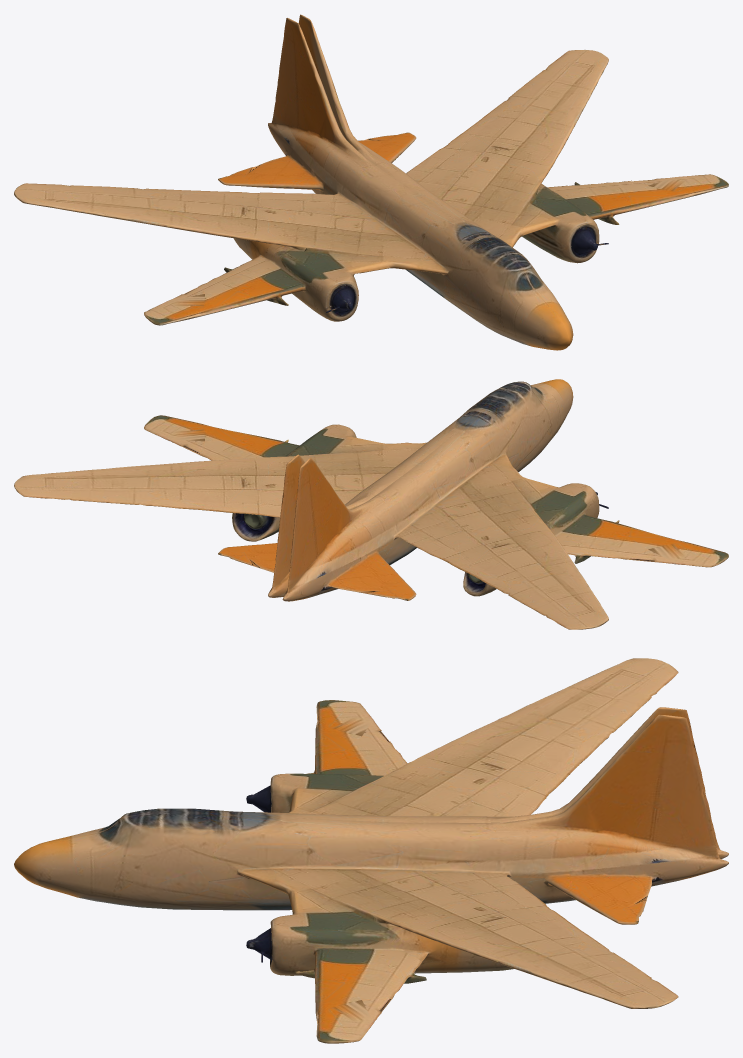
The model's file is bomber.glb.
3 renders of one model, top to bottom at view 1: azimuth 30°, elevation 25°; view 2: azimuth 150°, elevation 25°; view 3: azimuth 270°, elevation 25°, orthographic. The views are drawn at different scales.
Visible parts, largest first — view 1: bomber-Meshy-v03; view 2: bomber-Meshy-v03; view 3: bomber-Meshy-v03.
Boxes of the visible parts, x1,y1,x2,y2 form: bomber-Meshy-v03: (14, 14, 728, 350); bomber-Meshy-v03: (14, 379, 728, 629); bomber-Meshy-v03: (14, 658, 728, 1043).
Bounding box in the file's own units: 1.9 × 0.49 × 1.65.
Materials: 1 (1 with a texture image).
